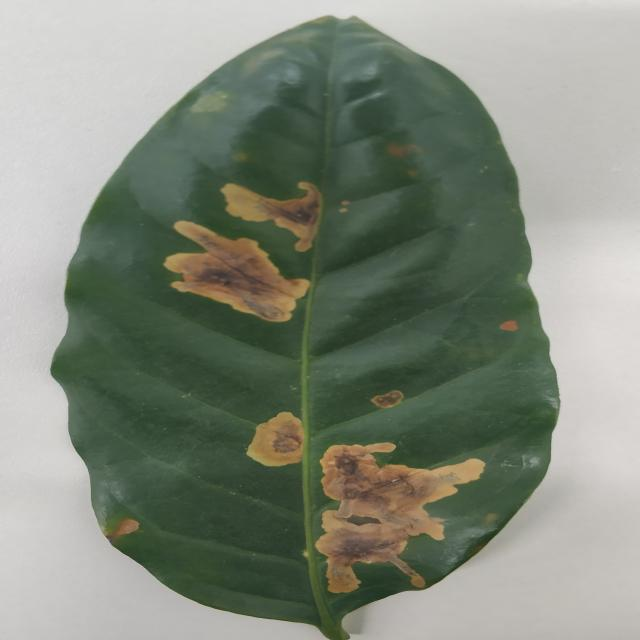Plaga-Minador: (48, 15, 562, 640)
